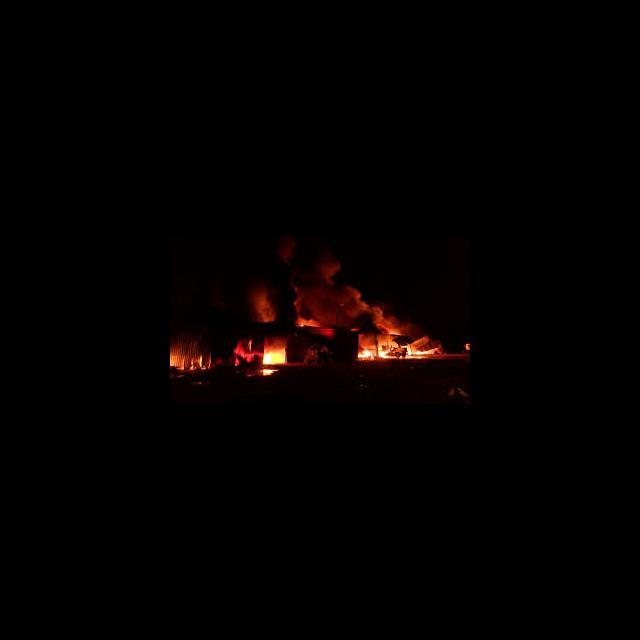Fire: (262, 346, 284, 365), (354, 347, 374, 360), (408, 347, 429, 358), (377, 348, 388, 358)
Smoke: (292, 244, 381, 327)
